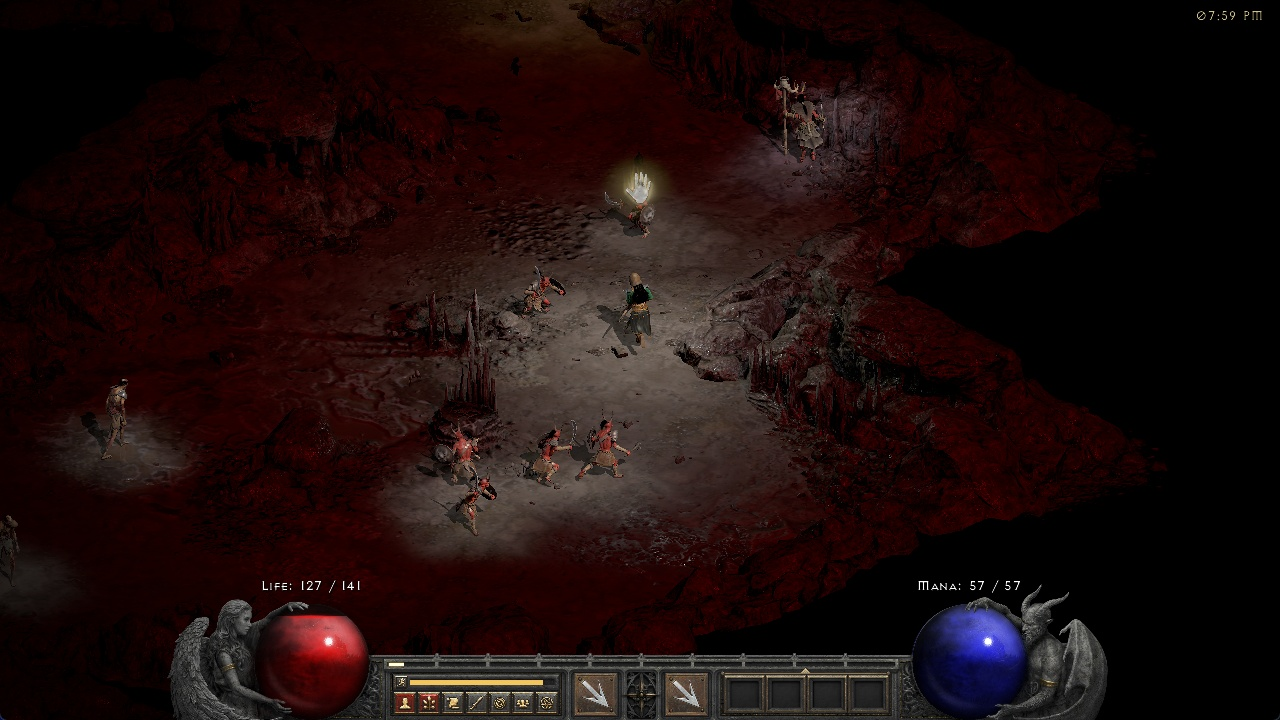fallen: (586, 415, 632, 479), (531, 425, 571, 485), (522, 268, 563, 324), (461, 479, 492, 532), (443, 425, 478, 470), (621, 201, 648, 243)
